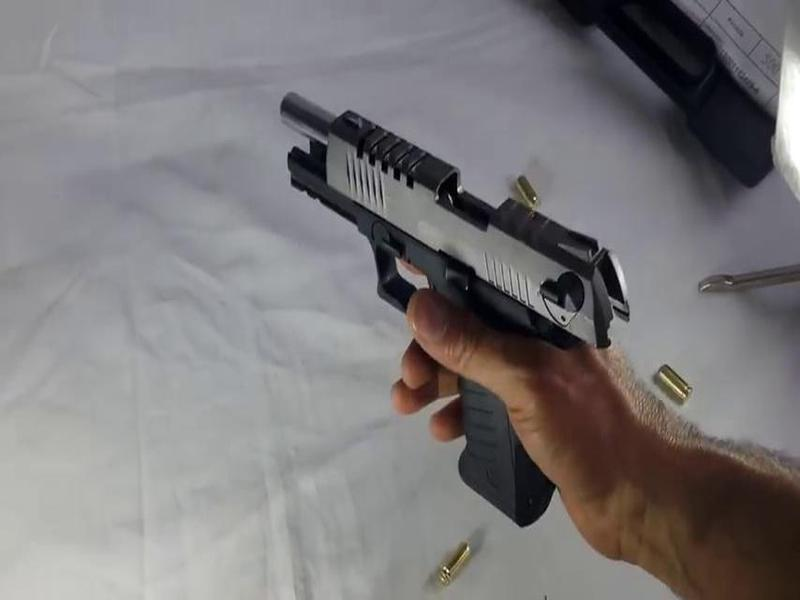Pistola: (277, 53, 638, 558)
